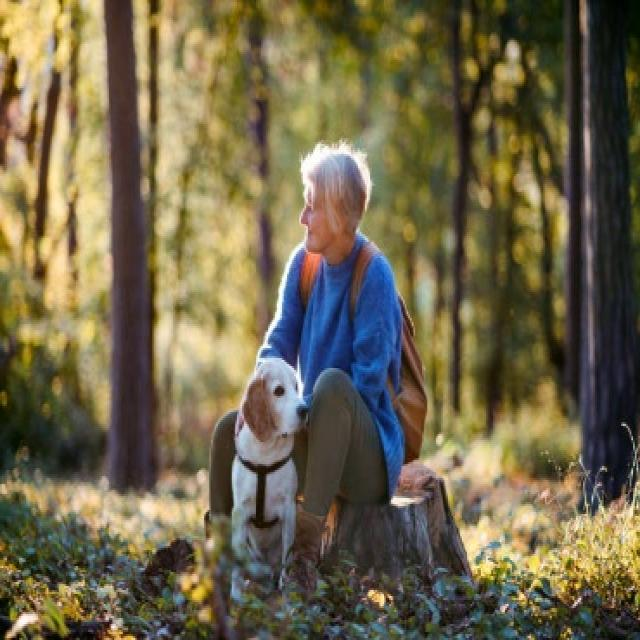adult: (246, 147, 432, 356)
